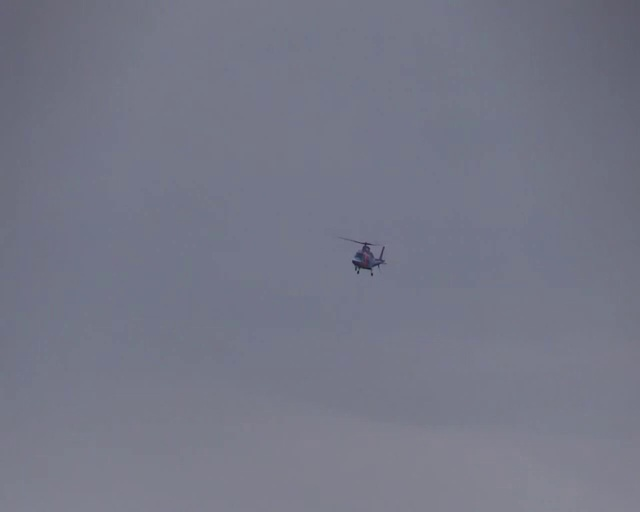HELICOPTER: (335, 235, 387, 277)
